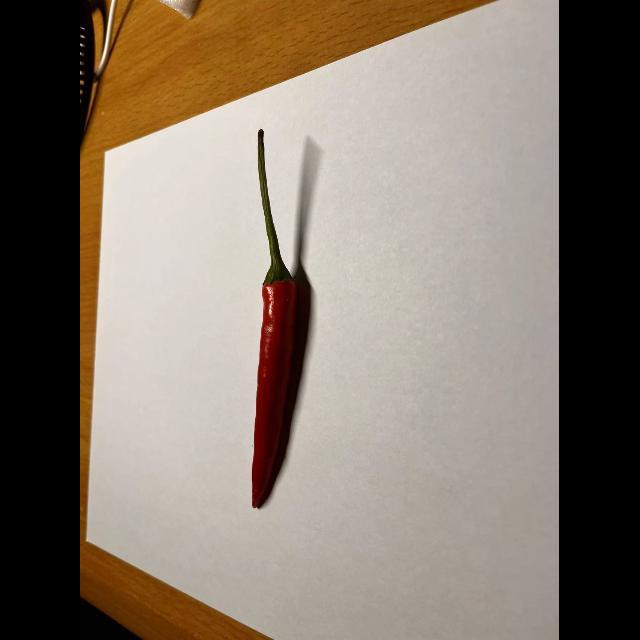chili_pepper: (230, 125, 324, 512)
